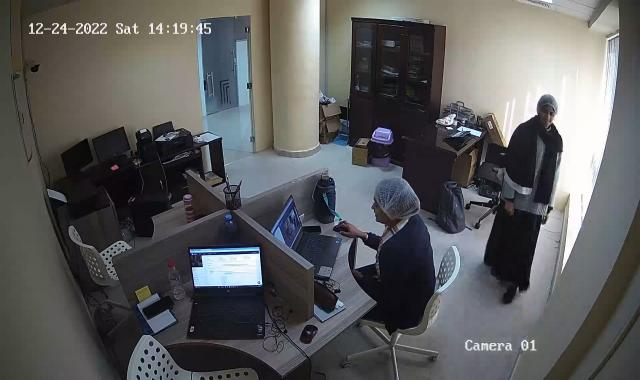hairnet: (369, 178, 420, 225), (533, 96, 559, 126)
